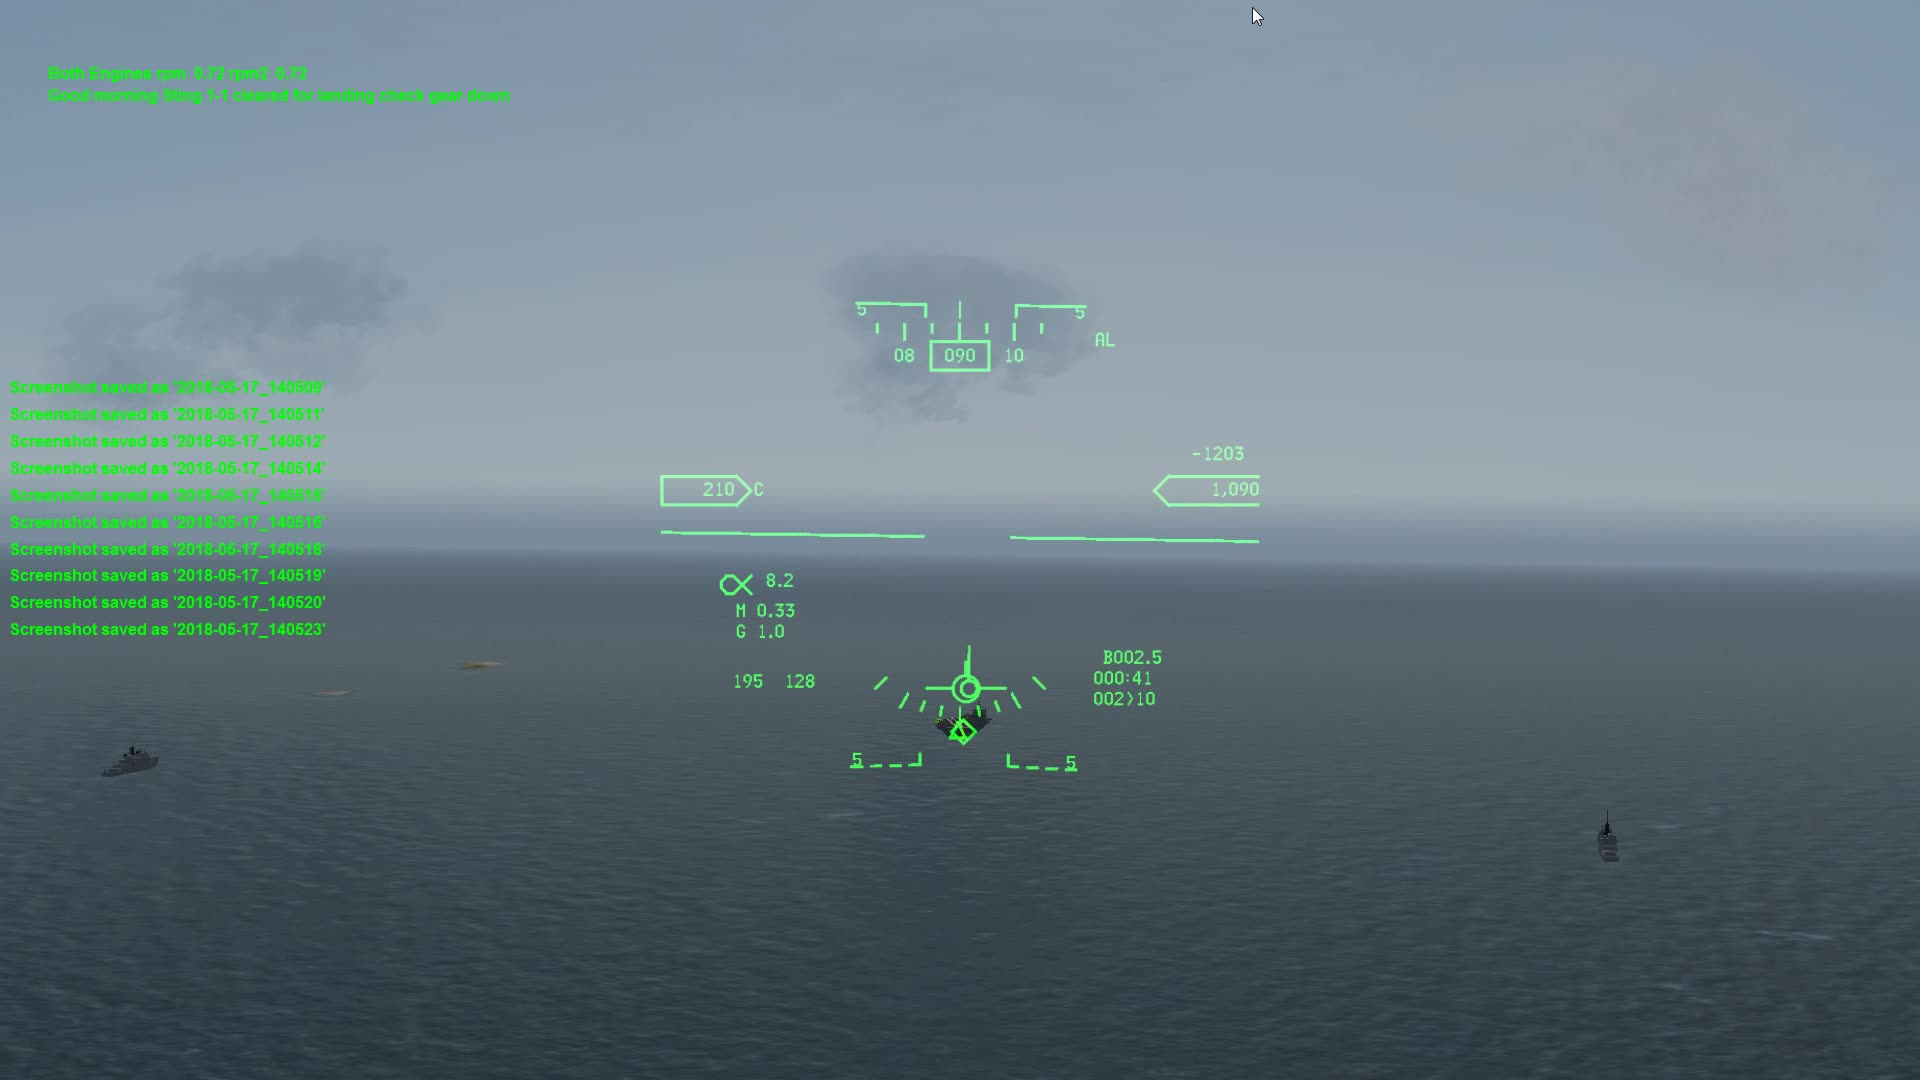speed vector: (913, 632, 1013, 708)
